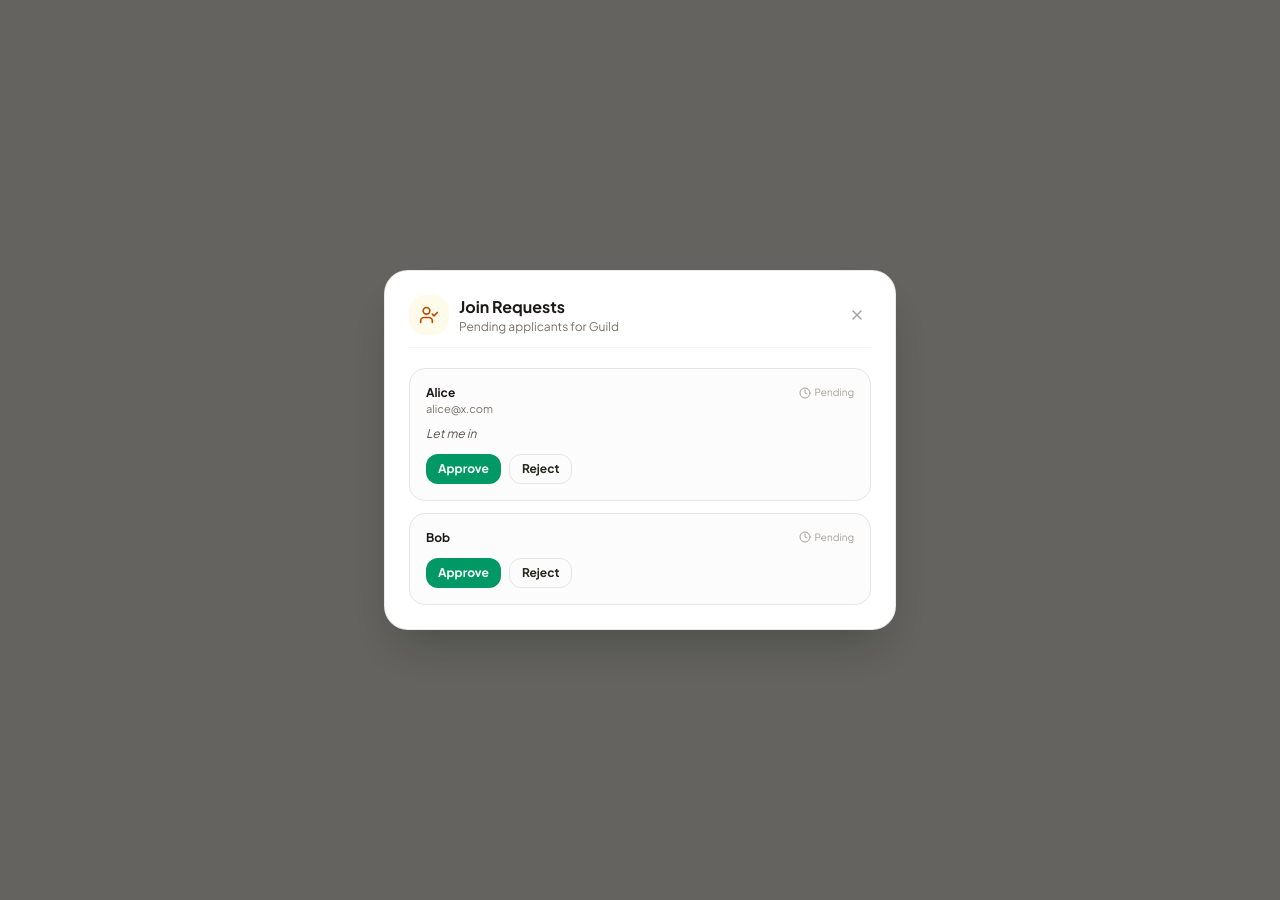
CommunityRequestsModal › rejects a request without notifying approval
Click the button with test id "btn-reject-r2". click: (541, 573)
box: x1=509 y1=558 x2=572 y2=588
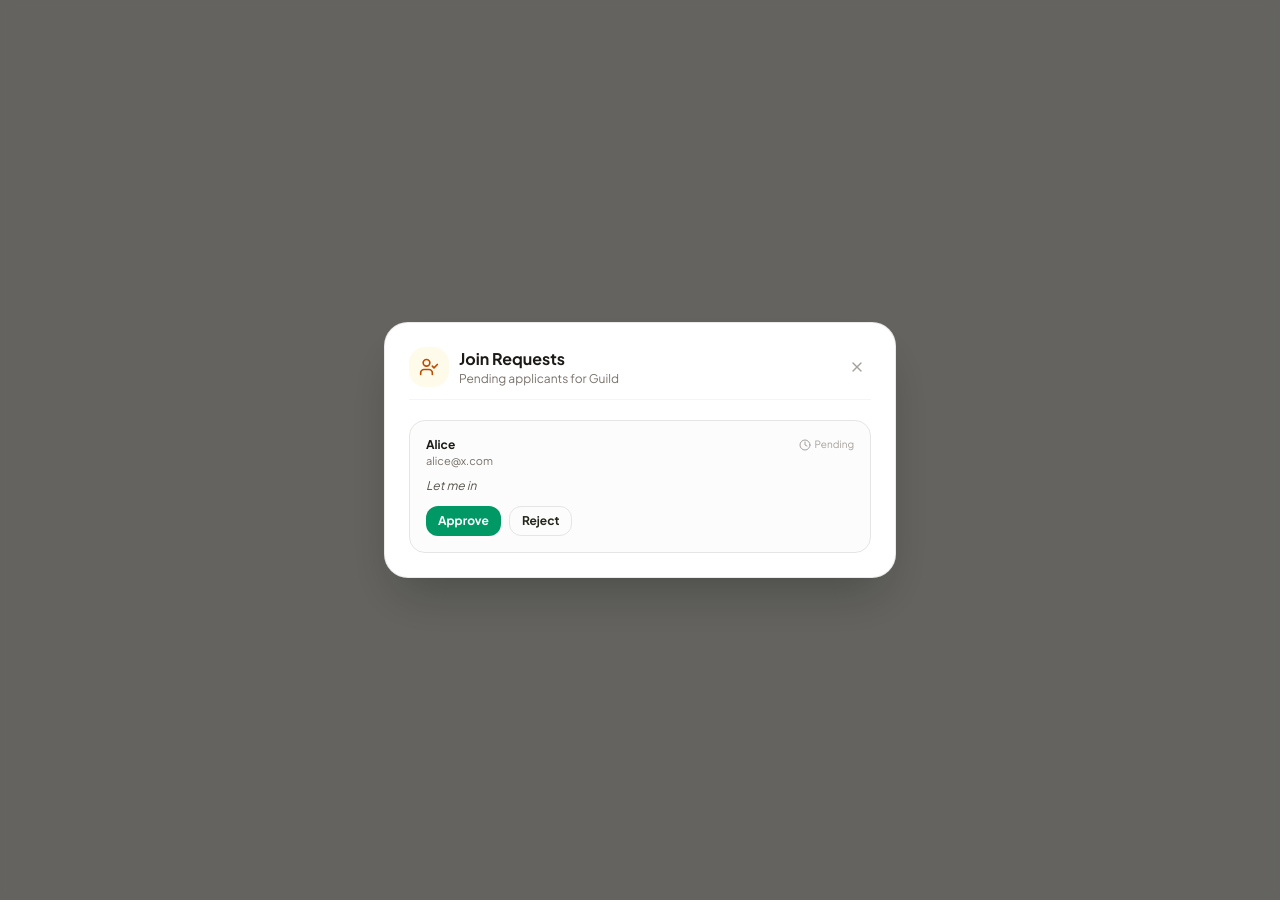
Result: the element with test id "request-item-r2" is gone
